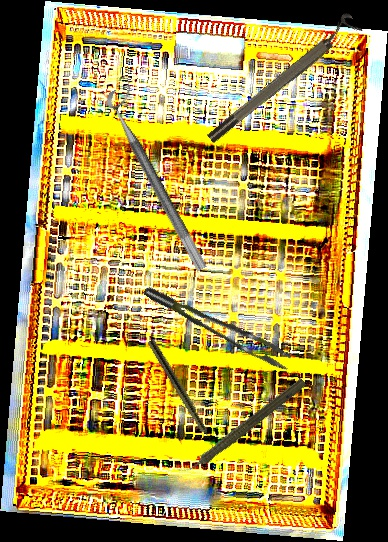Fixation Ring: (102, 82, 223, 273), (200, 11, 363, 146)
Handpiece: (175, 372, 309, 483), (145, 338, 221, 454)
Tissue Forceps: (142, 267, 295, 385)
